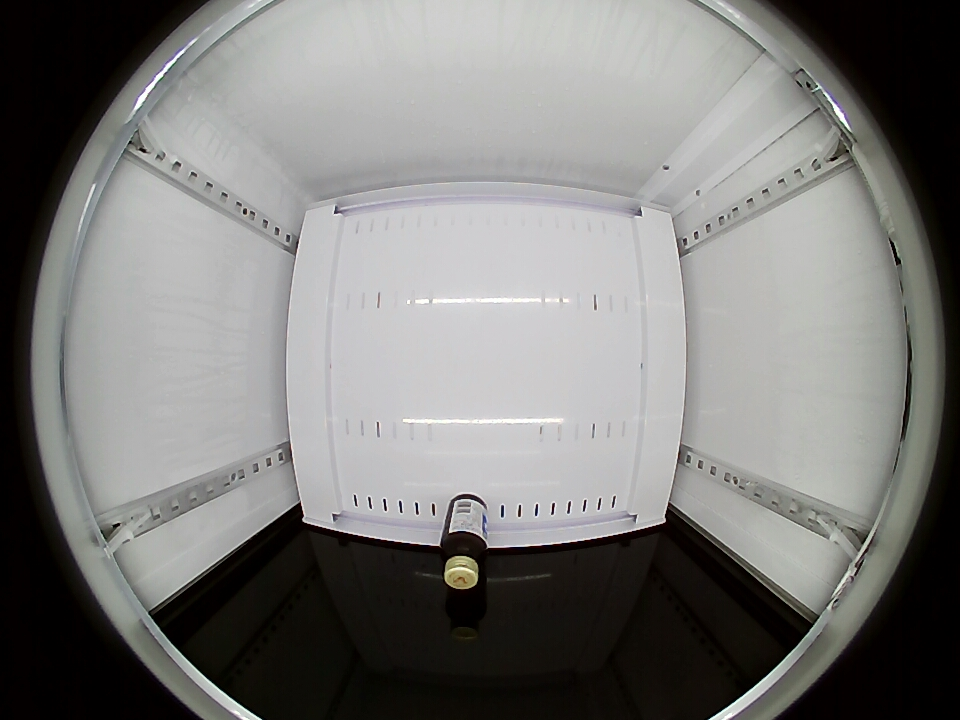libaojian: (439, 531, 490, 589)
